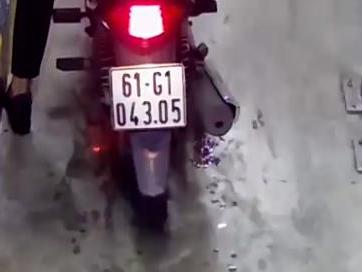num_plate: (110, 63, 186, 129)
